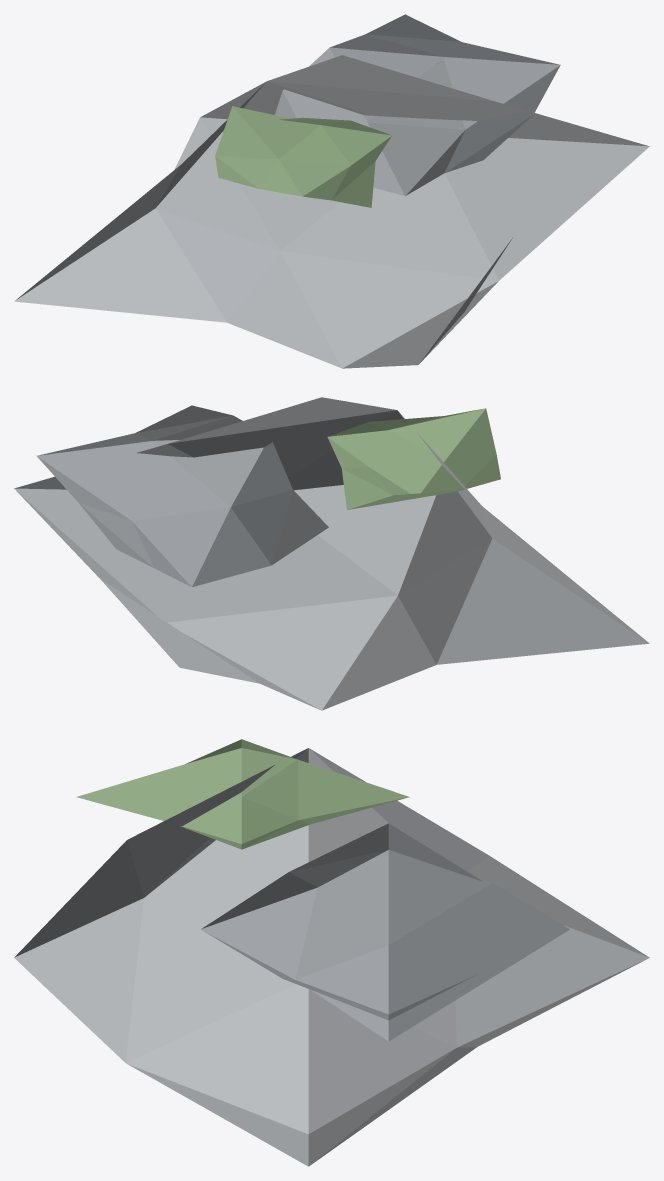
The model's file is rock_boulder.glb.
3 views of the same model, one above another, from view 1: azimuth 30°, elevation 25°; view 2: azimuth 150°, elevation 25°; view 3: azimuth 270°, elevation 25° (orthographic). The views are drawn at different scales.
Visible parts, largest first — view 1: lod0; view 2: lod0; view 3: lod0.
Boxes of the visible parts, x1,y1,x2,y2 form: lod0: (14,14,649,368); lod0: (14,397,649,710); lod0: (14,739,649,1166).
Size of what is drawn, in the model's own units: 3.3 by 1.55 by 2.38.
